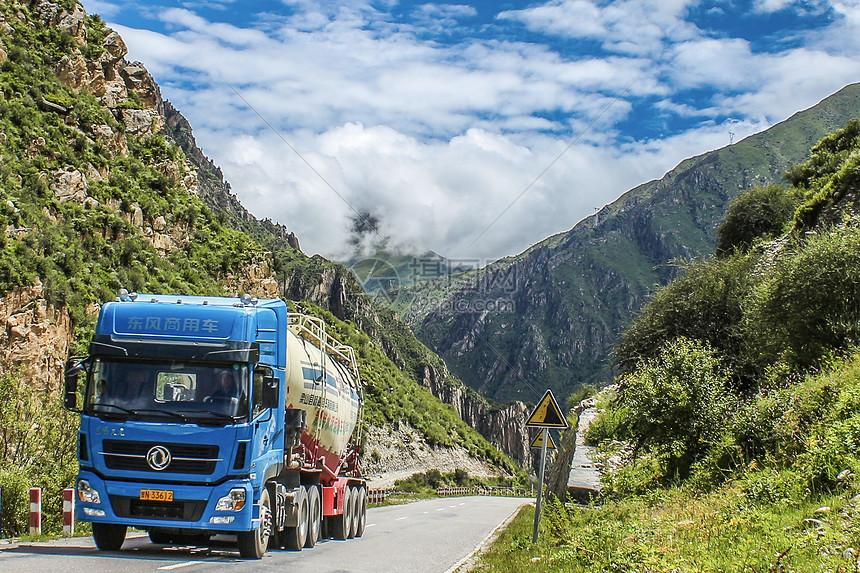truck: (76, 276, 379, 564)
